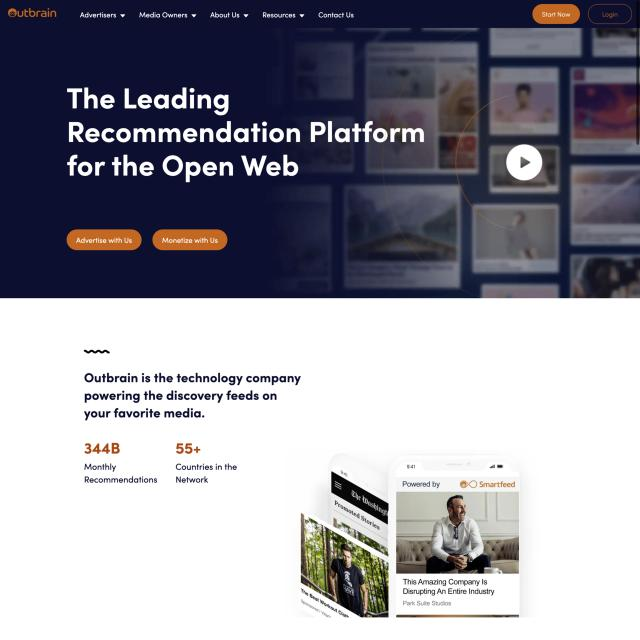logo: (4, 5, 63, 22)
navigation: (74, 8, 358, 23)
